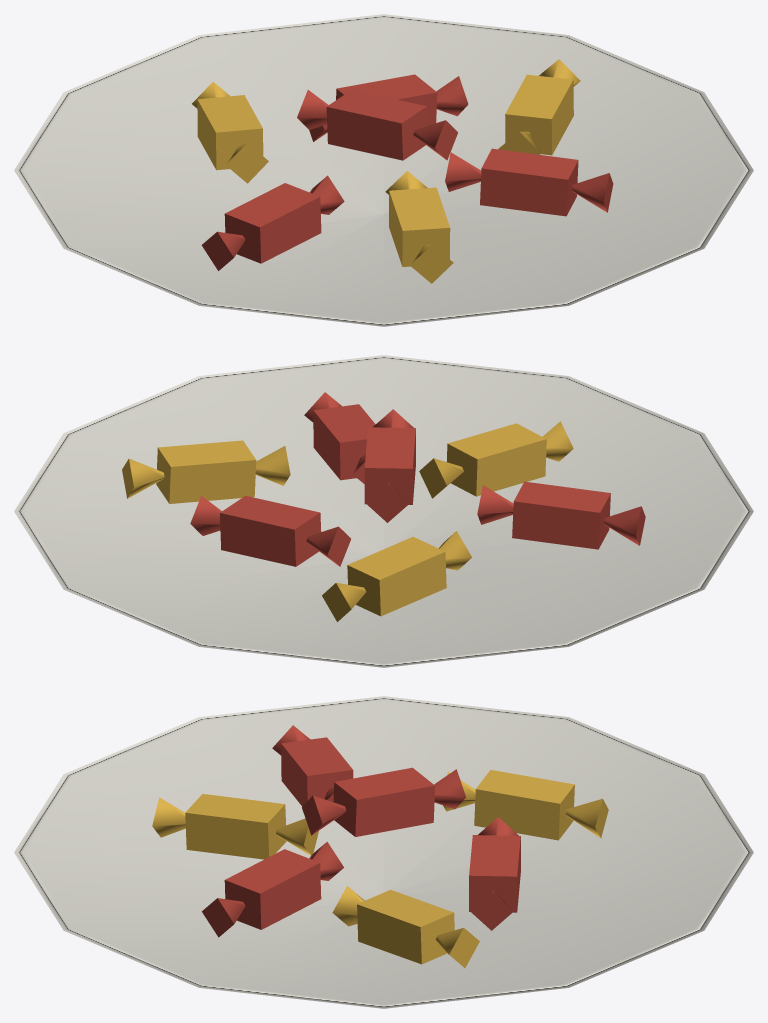
Rendered from BanhKeo_Dia.glb.
3 renders of one model, top to bottom at view 1: azimuth 30°, elevation 25°; view 2: azimuth 150°, elevation 25°; view 3: azimuth 270°, elevation 25°, orthographic.
Visible parts, largest first — view 1: BanhKeo_Dia_Su, Keo_GiayDo, Keo_GiayVang; view 2: BanhKeo_Dia_Su, Keo_GiayDo, Keo_GiayVang; view 3: BanhKeo_Dia_Su, Keo_GiayDo, Keo_GiayVang.
Boxes of the visible parts, x1,y1,x2,y2 form: BanhKeo_Dia_Su: (14,14,753,326); Keo_GiayDo: (201,74,613,270); Keo_GiayVang: (192,59,580,283); BanhKeo_Dia_Su: (14,355,753,667); Keo_GiayDo: (190,392,645,566); Keo_GiayVang: (122,421,573,621); BanhKeo_Dia_Su: (14,696,753,1008); Keo_GiayDo: (202,725,520,937); Keo_GiayVang: (152,770,608,967).
Size of the model in its own units: 0.2 by 0.0399 by 0.2.
